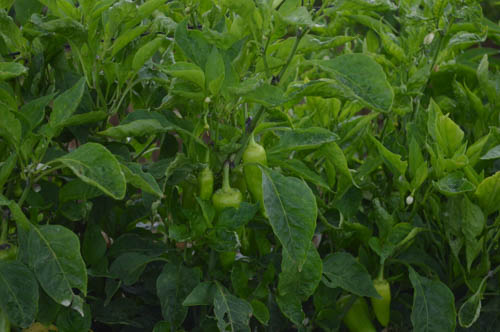ChiliPepper: (211, 190, 239, 266), (242, 147, 269, 202), (335, 296, 369, 328), (373, 284, 391, 325), (197, 171, 213, 195)
